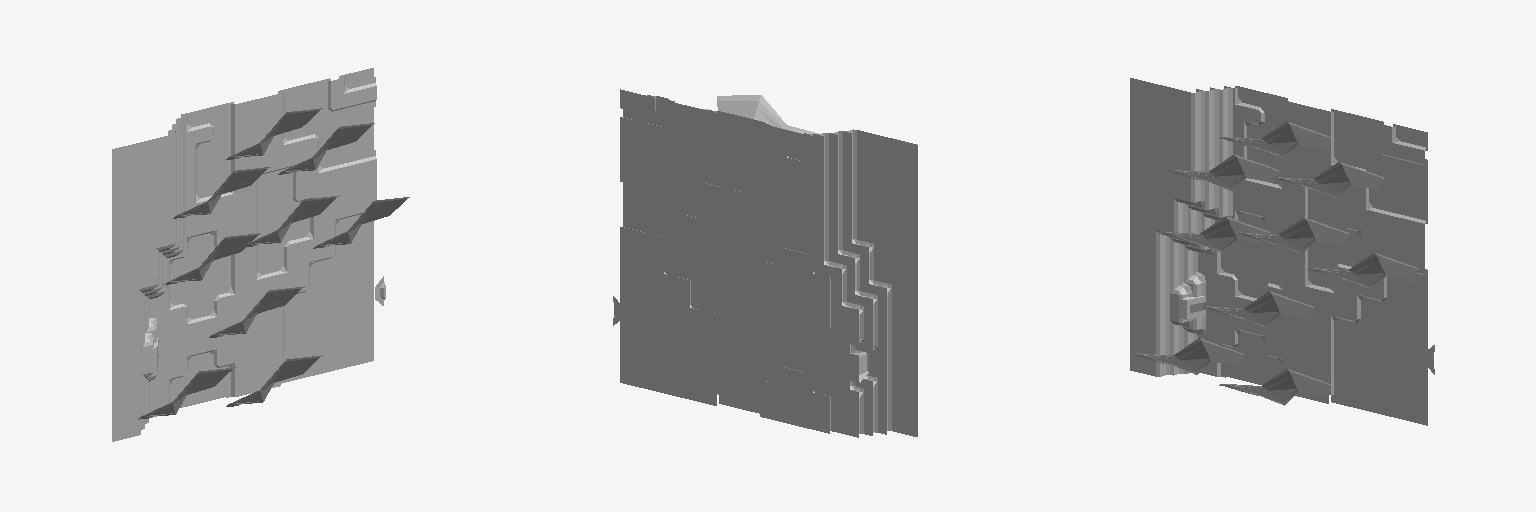
Rendered from Victory-Road-3_00_02.obj.
3 views of the same model, side by side, from view 1: azimuth 30°, elevation 25°; view 2: azimuth 150°, elevation 25°; view 3: azimuth 330°, elevation 25° (orthographic).
Parts seen in each view (by area): view 1: map; view 2: map; view 3: map.
Boxes of the visible parts, x1,y1,x2,y2 form: map: [112, 68, 409, 441]; map: [613, 89, 917, 437]; map: [1130, 78, 1434, 425].
Bounding box in the file's own units: 33.59 × 32.34 × 6.03.